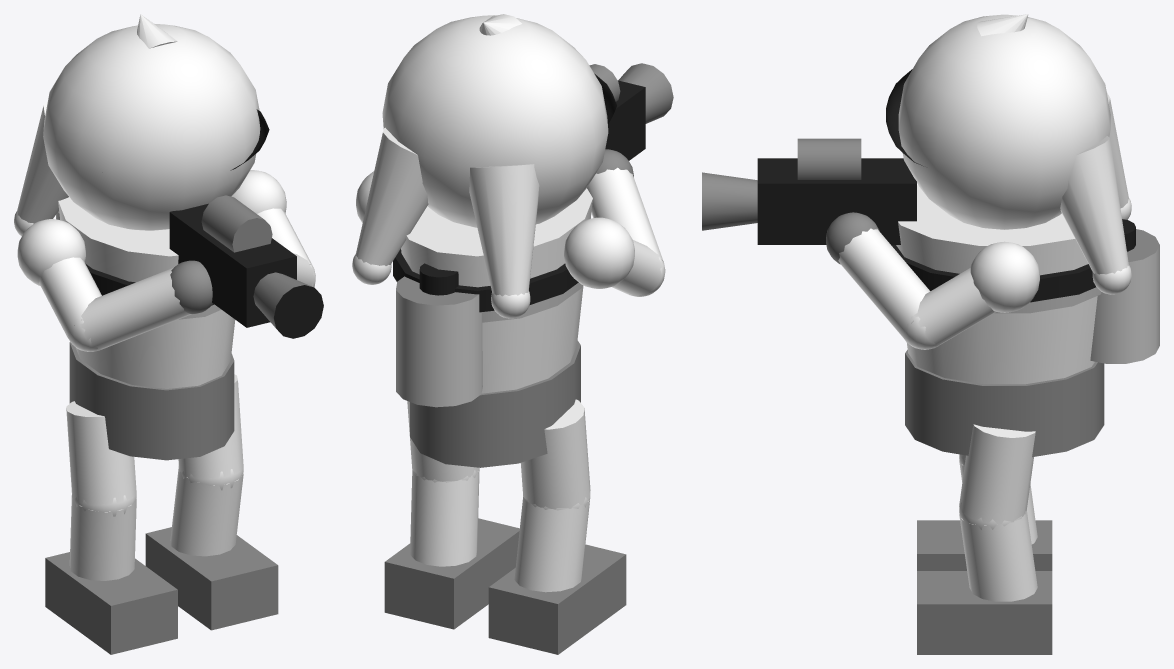
File: player.obj
The picture shows the model from 3 angles, left to right: view 1: azimuth 30°, elevation 25°; view 2: azimuth 150°, elevation 25°; view 3: azimuth 270°, elevation 25°; orthographic projection. The views are drawn at different scales.
Visible parts, largest first — view 1: player; view 2: player; view 3: player.
Part boxes in pixels (x1,y1,x2,y2): player: (14,14,323,654); player: (352,14,673,654); player: (702,14,1159,654).
Size of the model in its own units: 0.78 by 1.66 by 1.15.
Materials: 1 (1 with a texture image).
